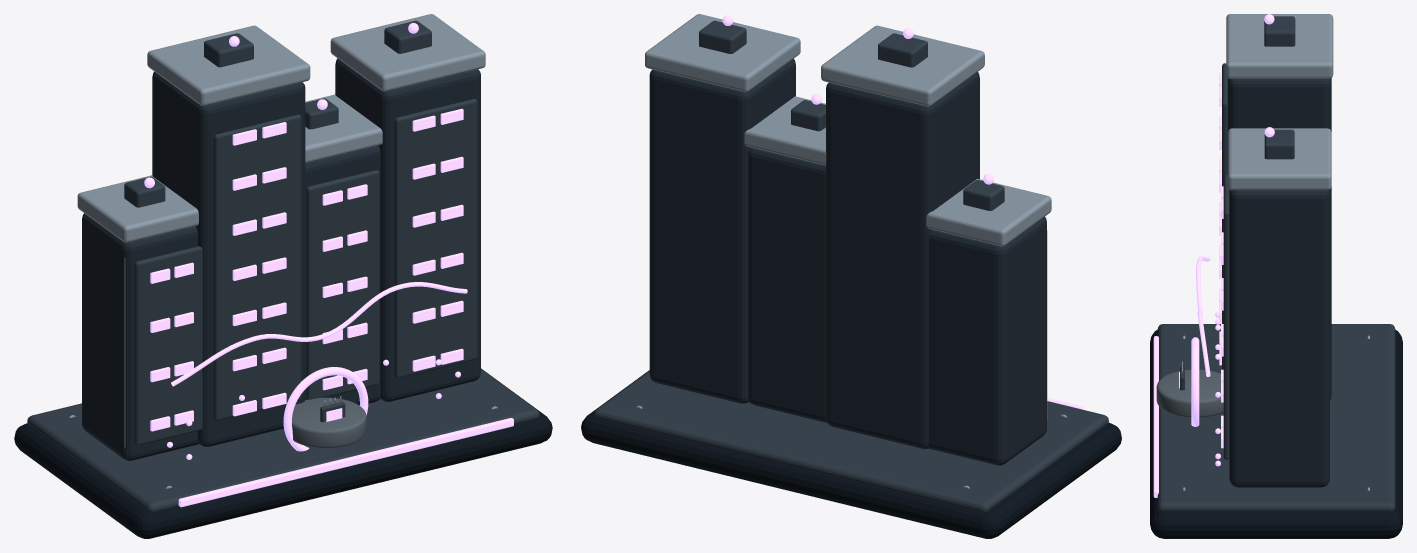
Rendered from Company_B.glb.
The picture shows the model from 3 angles, left to right: view 1: azimuth 30°, elevation 25°; view 2: azimuth 150°, elevation 25°; view 3: azimuth 270°, elevation 25°; orthographic projection. The views are drawn at different scales.
Visible parts, largest first — view 1: Company_B_Tower1_Front, Company_B_Base1, Company_B_Tower3_Front, Company_B_Tower1_Body, Company_B_Base0, Company_B_Tower0_Body, Company_B_Tower2_Front, Company_B_Tower3_Body, Company_B_Tower0_Front, Company_B_Tower1_Roof, Company_B_Tower3_Roof, Company_B_Tower0_Roof (+10 smaller); view 2: Company_B_Tower1_Body, Company_B_Tower3_Body, Company_B_Tower0_Body, Company_B_Base1, Company_B_Tower2_Body, Company_B_Base0, Company_B_Tower1_Roof, Company_B_Tower3_Roof, Company_B_Tower0_Roof, Company_B_Tower2_Roof, Company_B_Tower1_RooftopUnit, Company_B_Tower3_RooftopUnit (+2 smaller); view 3: Company_B_Tower3_Body, Company_B_Base1, Company_B_Base0, Company_B_Tower1_Roof, Company_B_Tower3_Roof, Company_B_Tower1_Body, Company_B_Gateway, Company_B_Tower3_Front, Company_B_FrontGlow, Company_B_Tower1_RooftopUnit, Company_B_Tower3_RooftopUnit, Company_B_GatewayGlow (+2 smaller).
Part boxes in pixels (<box>): Company_B_Tower1_Front: <box>213,114,301,420</box>; Company_B_Base1: <box>27,369,539,512</box>; Company_B_Tower3_Front: <box>394,99,477,378</box>; Company_B_Tower1_Body: <box>152,71,305,446</box>; Company_B_Base0: <box>14,368,552,538</box>; Company_B_Tower0_Body: <box>82,213,198,460</box>; Company_B_Tower2_Front: <box>306,170,379,399</box>; Company_B_Tower3_Body: <box>335,58,480,401</box>; Company_B_Tower0_Front: <box>134,246,202,445</box>; Company_B_Tower1_Roof: <box>147,25,310,106</box>; Company_B_Tower3_Roof: <box>330,14,485,91</box>; Company_B_Tower0_Roof: <box>77,175,198,242</box>; Company_B_Tower1_Body: <box>826,72,979,448</box>; Company_B_Tower3_Body: <box>649,58,795,403</box>; Company_B_Tower0_Body: <box>928,216,1046,465</box>; Company_B_Base1: <box>594,371,1108,512</box>; Company_B_Tower2_Body: <box>748,147,827,422</box>; Company_B_Base0: <box>581,370,1121,538</box>; Company_B_Tower1_Roof: <box>821,25,984,106</box>; Company_B_Tower3_Roof: <box>645,14,800,92</box>; Company_B_Tower0_Roof: <box>926,179,1051,246</box>; Company_B_Tower2_Roof: <box>744,96,826,165</box>; Company_B_Tower1_RooftopUnit: <box>878,33,927,67</box>; Company_B_Tower3_RooftopUnit: <box>699,20,746,53</box>; Company_B_Tower3_Body: <box>1229,189,1329,487</box>; Company_B_Base1: <box>1157,324,1395,511</box>; Company_B_Base0: <box>1150,330,1402,538</box>; Company_B_Tower1_Roof: <box>1226,14,1333,78</box>; Company_B_Tower3_Roof: <box>1228,128,1331,190</box>; Company_B_Tower1_Body: <box>1228,78,1331,400</box>; Company_B_Gateway: <box>1156,369,1223,417</box>; Company_B_Tower3_Front: <box>1223,175,1229,459</box>; Company_B_FrontGlow: <box>1153,336,1158,497</box>; Company_B_Tower1_RooftopUnit: <box>1264,16,1295,46</box>; Company_B_Tower3_RooftopUnit: <box>1264,129,1294,159</box>; Company_B_GatewayGlow: <box>1191,337,1199,426</box>.
Bounding box in the file's own units: 2.84 × 2.77 × 1.56.
